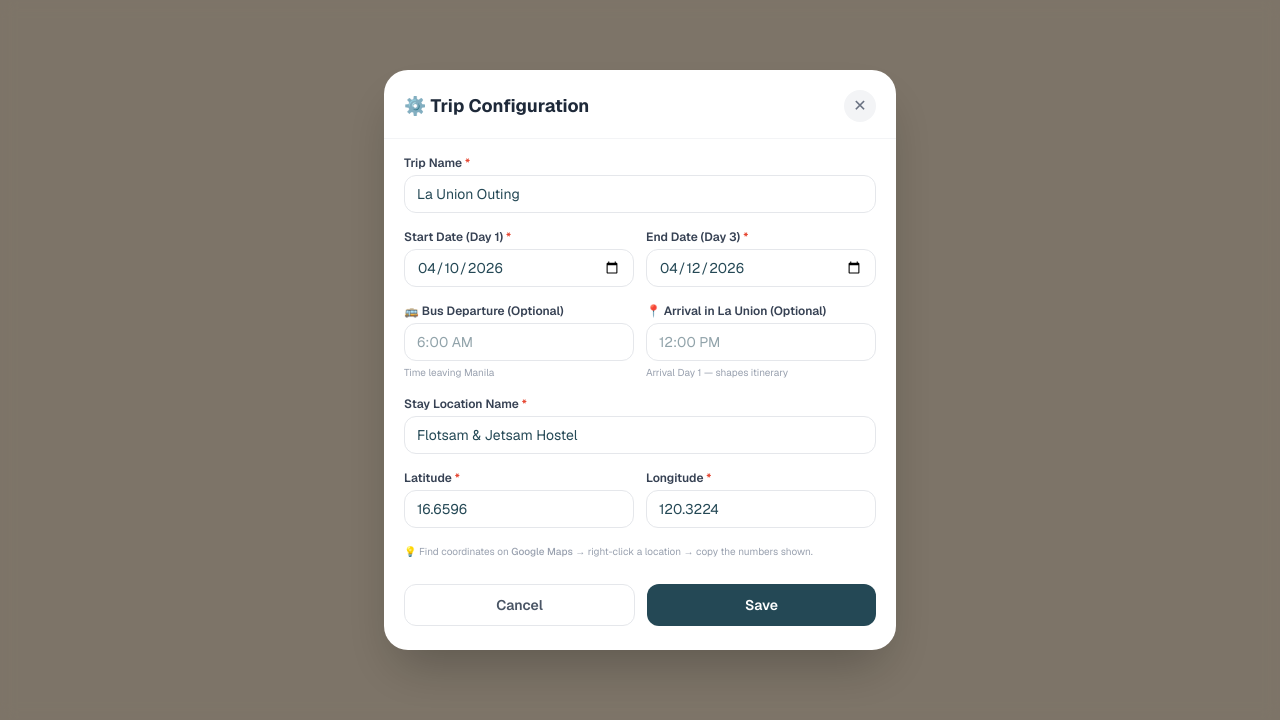
Scenario: TripConfigModal › [AC-TRIPCONFIG-ERR1] shows generic error message on network failure
The width and height of the screenshot is (1280, 720).
Click the button "Save" at {"x": 762, "y": 605}, box [647, 584, 876, 626]
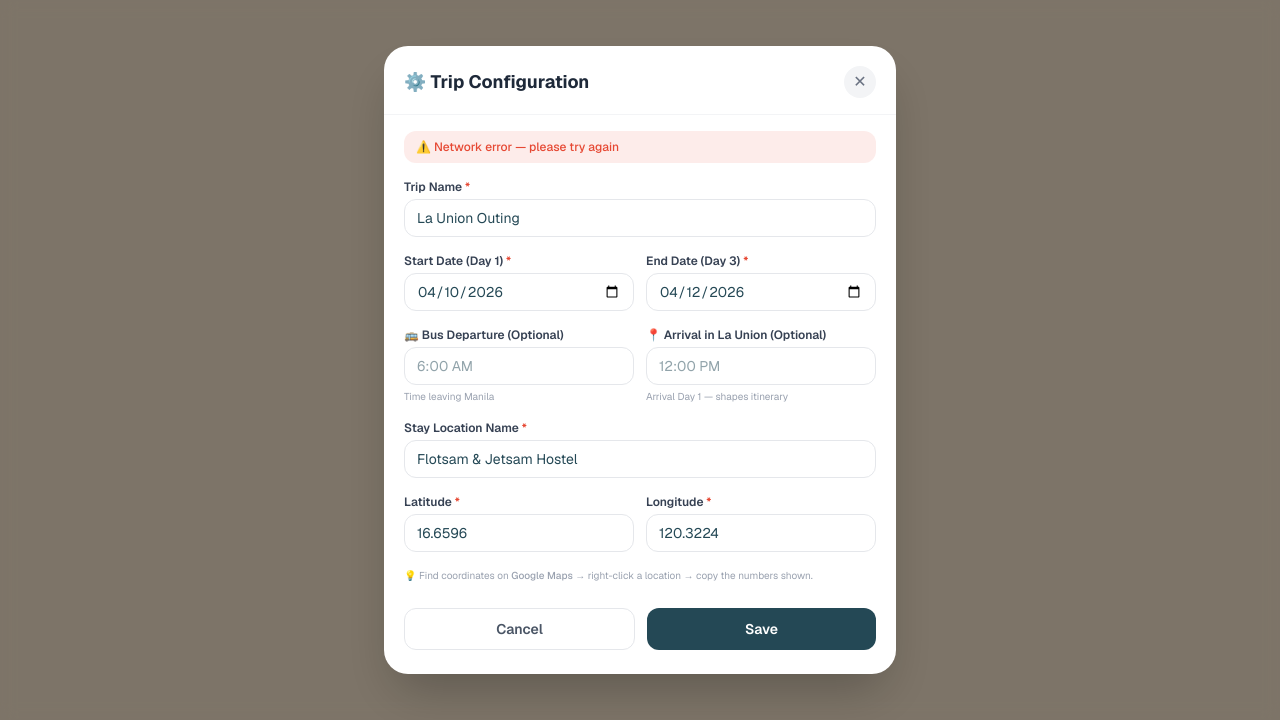
Expected: the message "⚠️ Network error — please try again" is shown, [404, 131, 876, 163]
